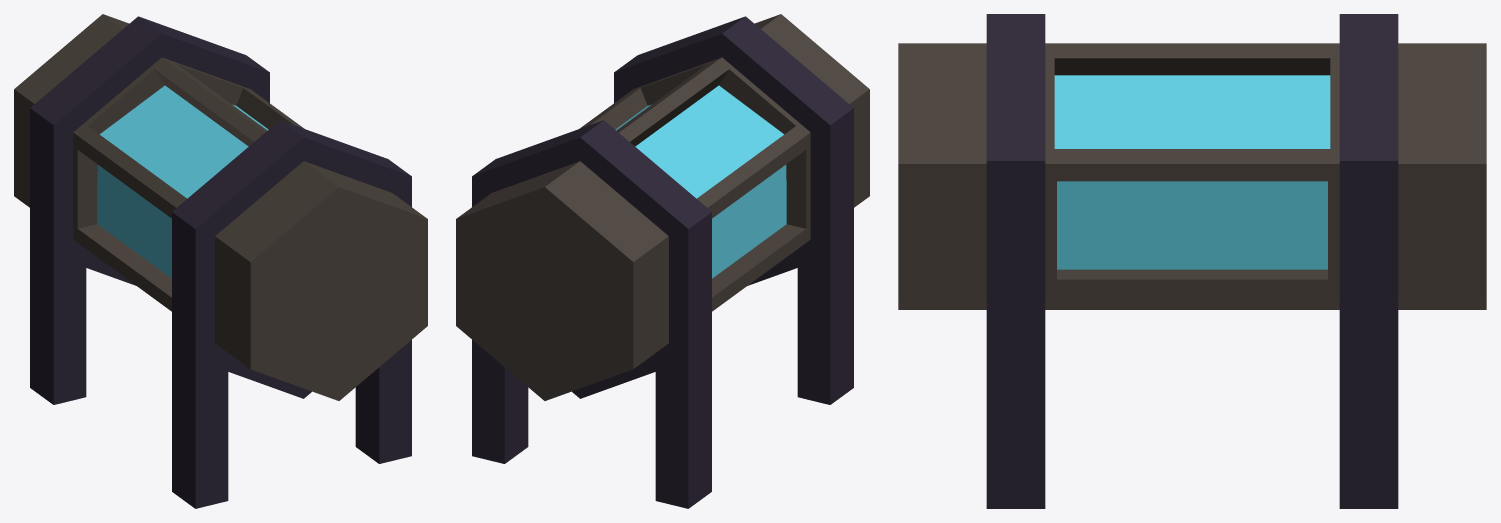
Rendered from PipeLower.fbx.
3 views of the same model, side by side, from view 1: azimuth 30°, elevation 25°; view 2: azimuth 150°, elevation 25°; view 3: azimuth 270°, elevation 25° (orthographic). The views are drawn at different scales.
Visible parts, largest first — view 1: Pipe_LOD2; view 2: Pipe_LOD2; view 3: Pipe_LOD2.
Boxes of the visible parts, x1,y1,x2,y2 form: Pipe_LOD2: [14, 14, 427, 508]; Pipe_LOD2: [456, 14, 869, 508]; Pipe_LOD2: [898, 14, 1486, 508].
Size of the model in its own units: 52.86 by 80.56 by 100.
